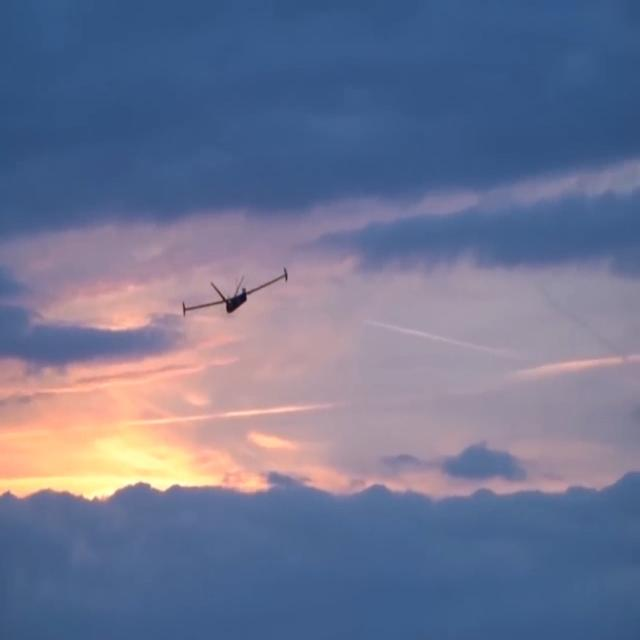iha: (210, 292, 257, 296)
